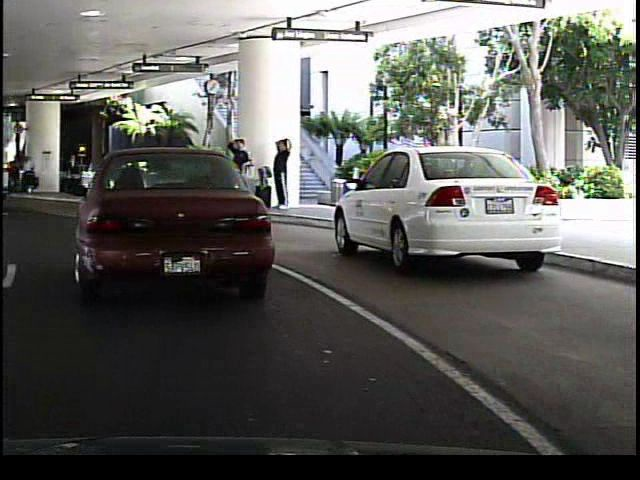person: (224, 132, 250, 211), (270, 133, 292, 211), (283, 146, 305, 209), (118, 156, 133, 194)
